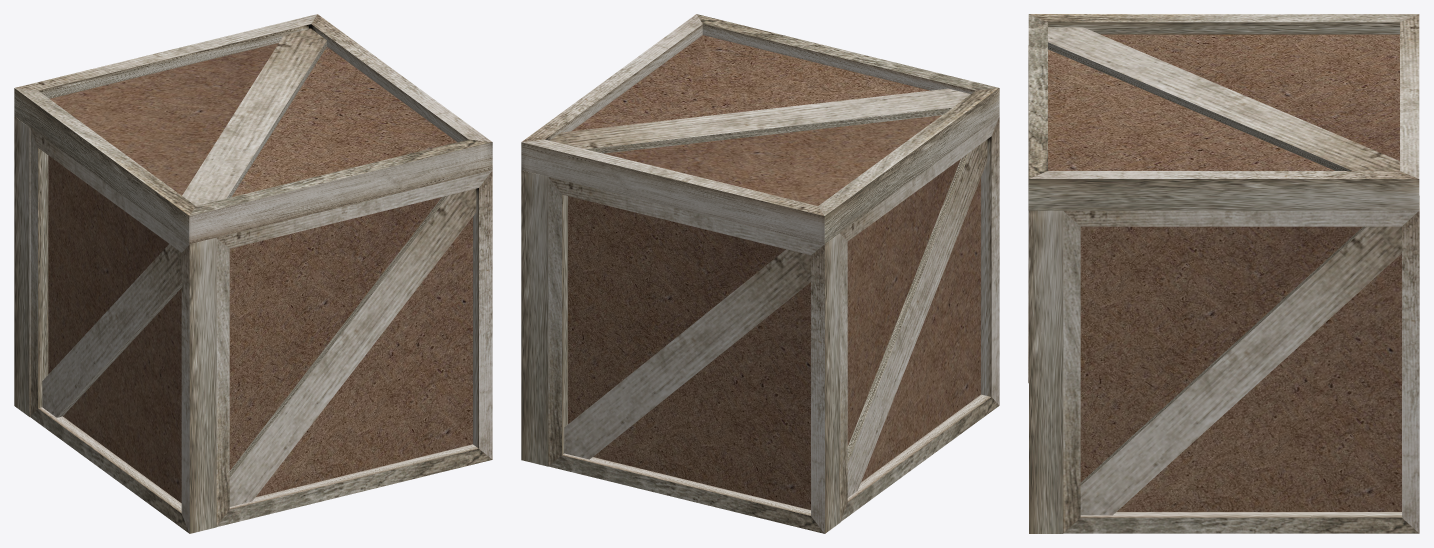
Rendered from crate_closed.fbx.
3 renders of one model, left to right at view 1: azimuth 30°, elevation 25°; view 2: azimuth 150°, elevation 25°; view 3: azimuth 270°, elevation 25°, orthographic. The views are drawn at different scales.
Parts seen in each view (by area): view 1: CratePanel.002, CratePanel.005, CratePanel.001, CratePanel.000; view 2: CratePanel.000, CratePanel.005, CratePanel.001, CratePanel.003; view 3: CratePanel.003, CratePanel.005, CratePanel.002.
Boxes of the visible parts, left/top/right/bottom form: CratePanel.002: left=216, top=170, right=492, bottom=526; CratePanel.005: left=14, top=14, right=492, bottom=243; CratePanel.001: left=30, top=128, right=216, bottom=533; CratePanel.000: left=14, top=116, right=30, bottom=416; CratePanel.000: left=548, top=177, right=840, bottom=533; CratePanel.005: left=521, top=14, right=999, bottom=244; CratePanel.001: left=840, top=116, right=999, bottom=521; CratePanel.003: left=521, top=170, right=548, bottom=466; CratePanel.003: left=1063, top=196, right=1419, bottom=533; CratePanel.005: left=1028, top=14, right=1419, bottom=210; CratePanel.002: left=1029, top=210, right=1063, bottom=533.
Size of the model in its own units: 113 by 113 by 113.
Materials: 1 (1 with a texture image).
